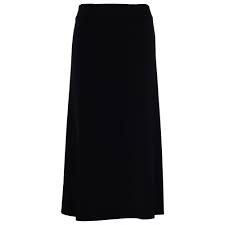F_tailored skirt: (50, 6, 188, 225)
